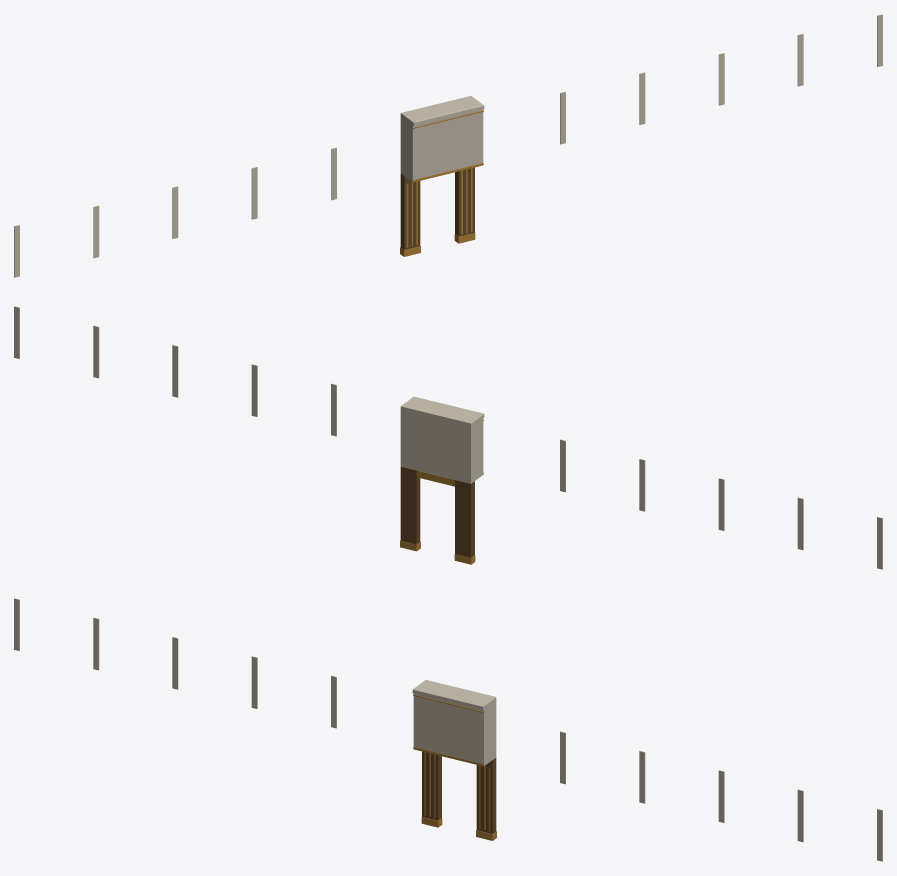
File: prop_of_teller_line.glb
3 renders of one model, top to bottom at view 1: azimuth 30°, elevation 25°; view 2: azimuth 150°, elevation 25°; view 3: azimuth 330°, elevation 25°, orthographic.
Visible parts, largest first — view 1: Counter; view 2: Counter; view 3: Counter.
Part boxes in pixels (x1=…): Counter: x1=14, y1=14, x2=882, y2=277; Counter: x1=14, y1=306, x2=882, y2=569; Counter: x1=14, y1=598, x2=882, y2=861.
Size of the model in its own units: 27.05 by 4.2 by 0.7252.
